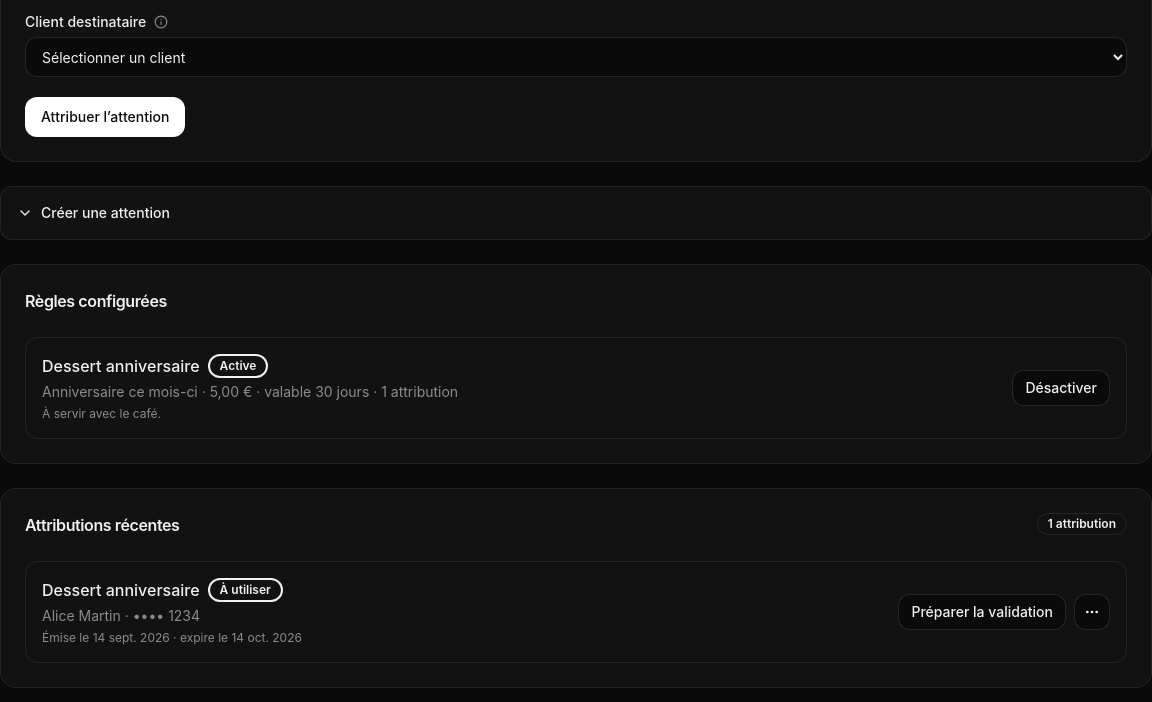
LoyaltyPage › permet d’annuler une attribution en attente avec confirmation
(page scrolled)
Note: Le bouton n’existe qu’une fois la liste des attributions chargée.
Press the mouse on the button named "Autres actions pour Dessert anniversaire · Alice Martin" at (1092, 612), box [1074,594,1110,630]
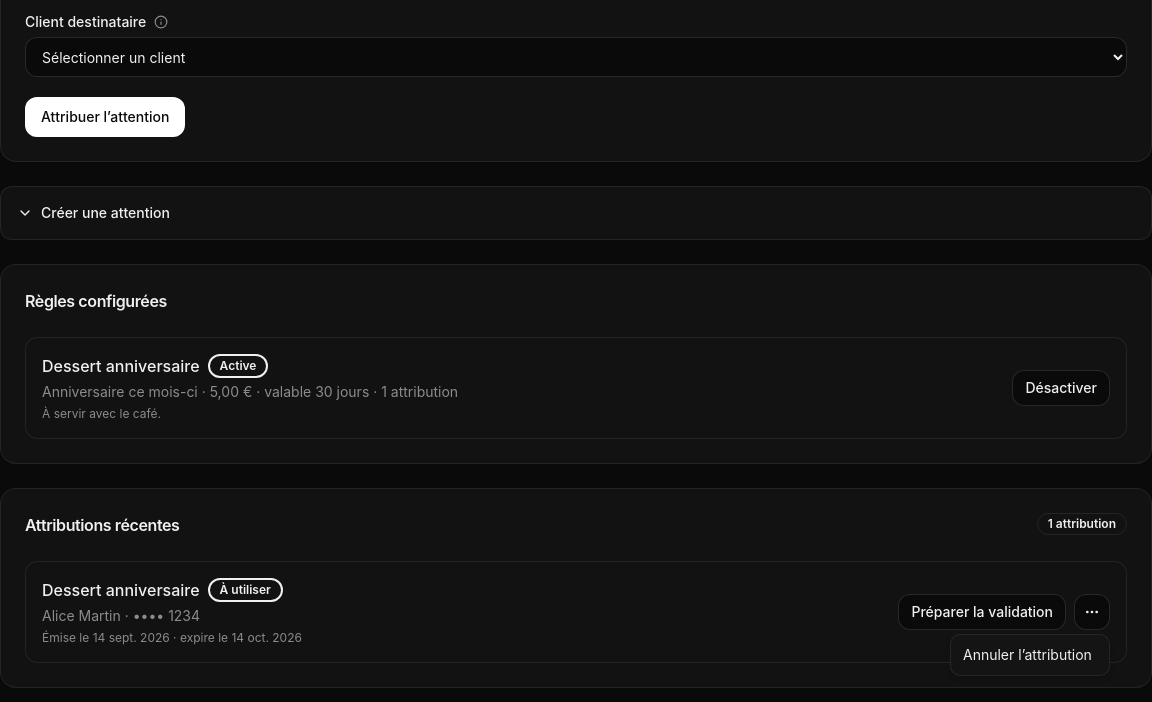
Click the menu item "Annuler l’attribution". click: (1027, 654)
box: [963,646,1092,663]
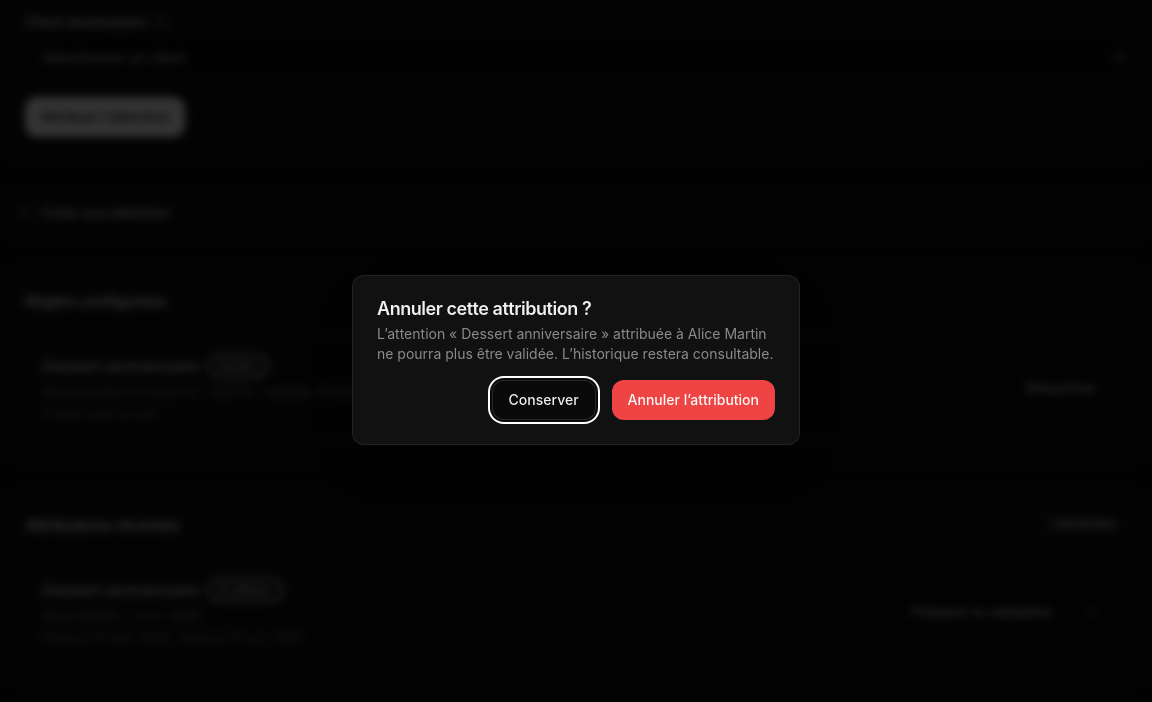
Result: the text "ne pourra plus être validée" is shown at [377,325,774,362]
Click the button "Annuler l’attribution". click: (693, 400)
box: [612,380,775,420]
(page scrolled)
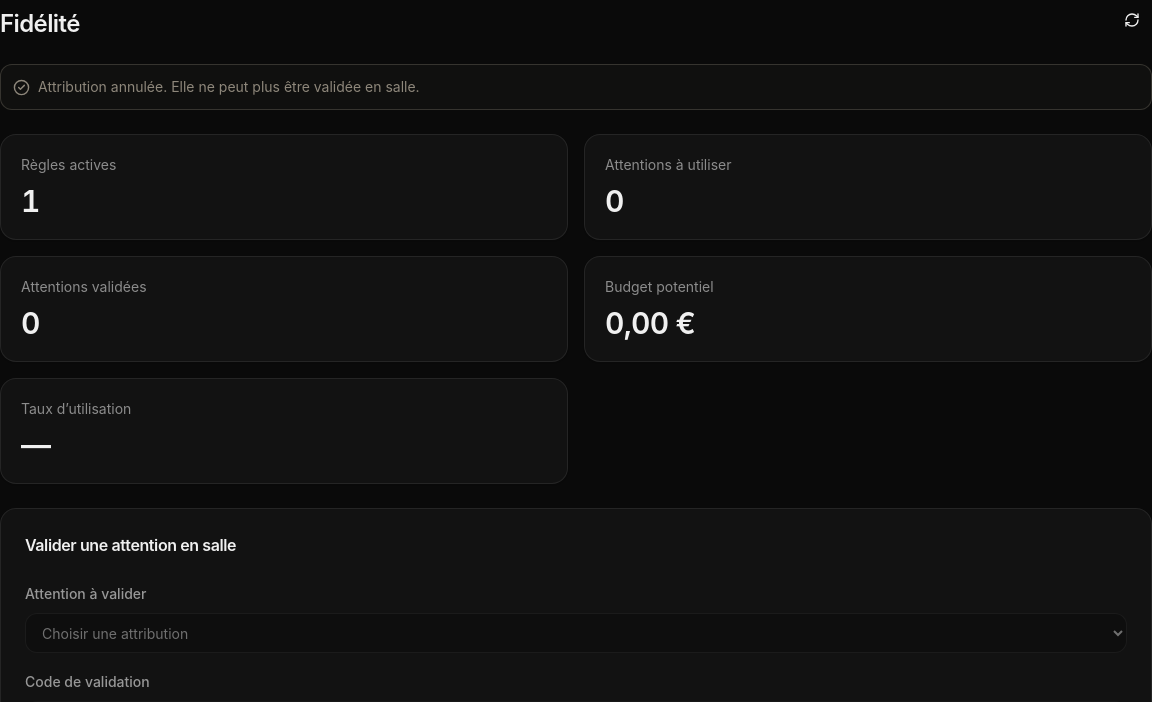
Result: the text "Attribution annulée. Elle ne peut plus être validée en salle." is shown at [0,64,1151,110]
